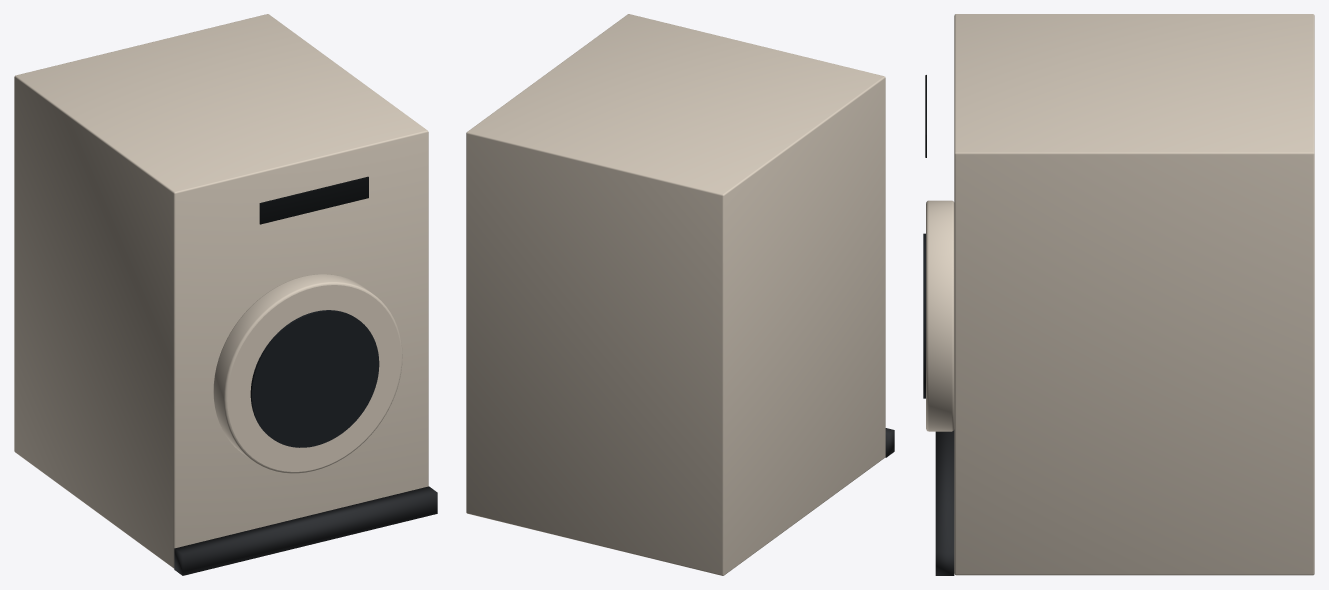
3 views of the same model, side by side, from view 1: azimuth 30°, elevation 25°; view 2: azimuth 150°, elevation 25°; view 3: azimuth 270°, elevation 25° (orthographic). The views are drawn at different scales.
Visible parts, largest first — view 1: FX25AF; view 2: FX25AF; view 3: FX25AF.
Boxes of the visible parts, x1,y1,x2,y2 form: FX25AF: (14,14,437,575); FX25AF: (466,14,894,575); FX25AF: (923,14,1314,575).
Bounding box in the file's own units: 0.7 × 0.99 × 0.83.
